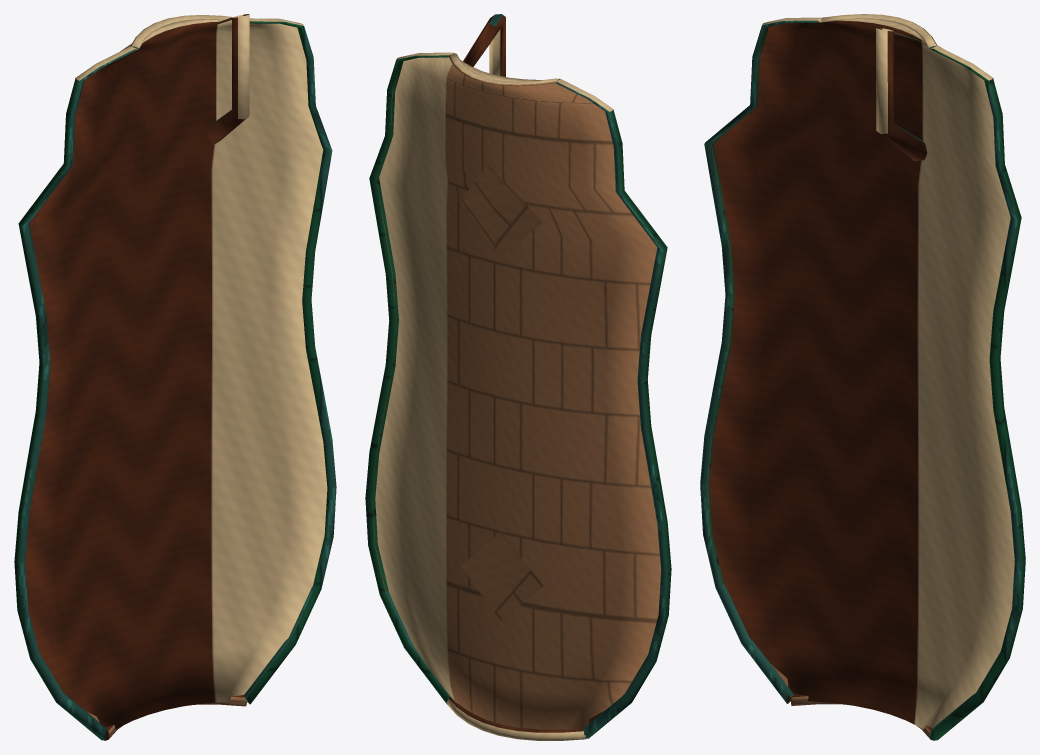
File: lowprofile_shield.fbx
The picture shows the model from 3 angles, left to right: view 1: azimuth 30°, elevation 25°; view 2: azimuth 150°, elevation 25°; view 3: azimuth 330°, elevation 25°; orthographic projection. The views are drawn at different scales.
Parts seen in each view (by area): view 1: tuareg_agher_lowprofile; view 2: tuareg_agher_lowprofile; view 3: tuareg_agher_lowprofile.
Part boxes in pixels (bbox=[...]): tuareg_agher_lowprofile: bbox=[14, 14, 336, 740]; tuareg_agher_lowprofile: bbox=[365, 14, 671, 740]; tuareg_agher_lowprofile: bbox=[700, 14, 1025, 740].
Bounding box in the file's own units: 58.99 × 126 × 15.18.
